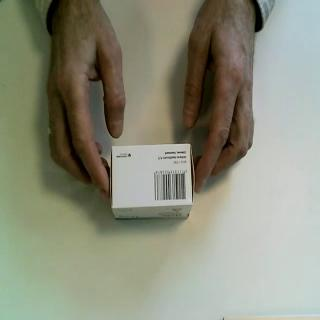morfin10mg: (109, 142, 196, 222)
